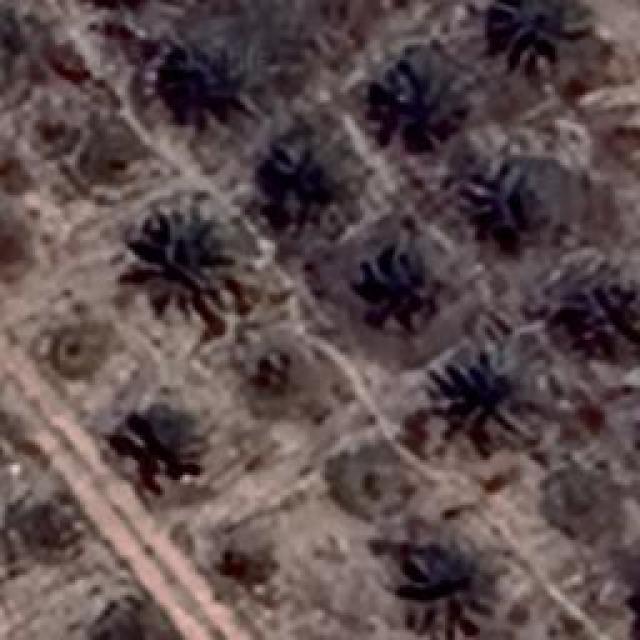PalmTree: (132, 198, 240, 312), (388, 542, 490, 640), (155, 34, 263, 118), (452, 347, 526, 455), (267, 139, 355, 219), (354, 250, 442, 328), (384, 51, 476, 121), (488, 0, 582, 65), (114, 415, 192, 483), (565, 279, 640, 349), (480, 182, 545, 246)
